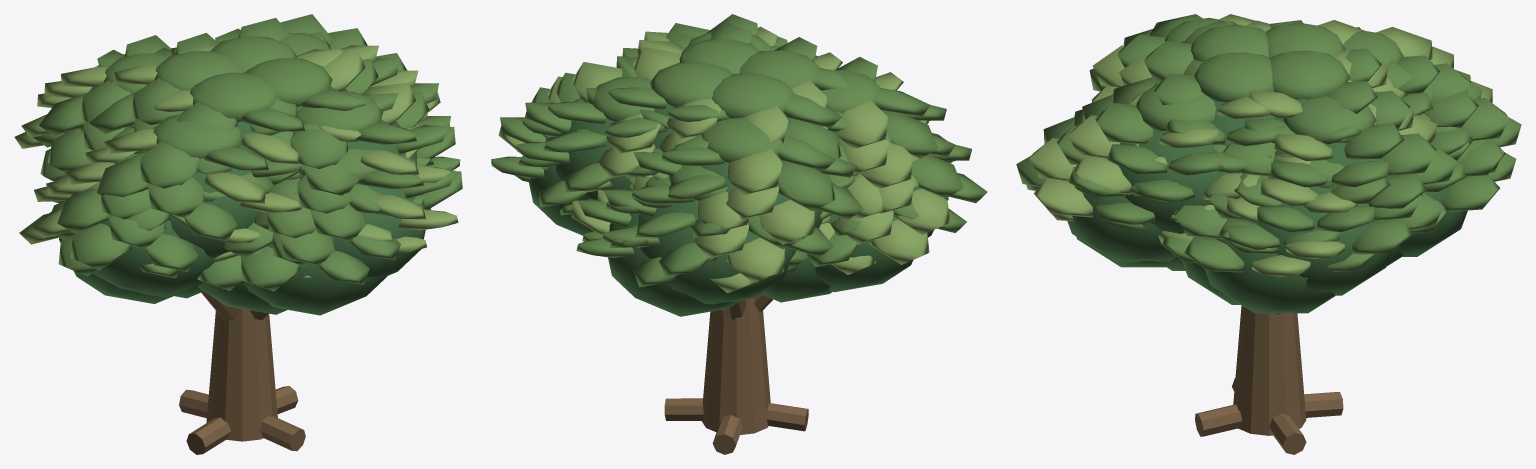
The model's file is round_oak.glb.
The picture shows the model from 3 angles, left to right: view 1: azimuth 30°, elevation 25°; view 2: azimuth 150°, elevation 25°; view 3: azimuth 270°, elevation 25°; orthographic projection. The views are drawn at different scales.
Visible parts, largest first — view 1: Occlude_Canopy_3_Mesh, Occlude_Canopy_2_Mesh, Occlude_Canopy_1_Mesh, Keep_Mesh, Occlude_Canopy_0_Mesh; view 2: Occlude_Canopy_1_Mesh, Occlude_Canopy_2_Mesh, Occlude_Canopy_0_Mesh, Keep_Mesh, Occlude_Canopy_3_Mesh; view 3: Occlude_Canopy_0_Mesh, Occlude_Canopy_3_Mesh, Occlude_Canopy_1_Mesh, Keep_Mesh, Occlude_Canopy_2_Mesh.
Boxes of the visible parts, x1,y1,x2,y2 form: Occlude_Canopy_3_Mesh: (197,49,462,315); Occlude_Canopy_2_Mesh: (19,72,319,303); Occlude_Canopy_1_Mesh: (14,33,288,181); Keep_Mesh: (179,291,305,454); Occlude_Canopy_0_Mesh: (170,14,460,170); Occlude_Canopy_1_Mesh: (571,73,863,316); Occlude_Canopy_2_Mesh: (739,37,987,302); Occlude_Canopy_0_Mesh: (491,47,732,235); Keep_Mesh: (664,294,808,454); Occlude_Canopy_3_Mesh: (616,14,817,76); Occlude_Canopy_0_Mesh: (1158,49,1456,313); Occlude_Canopy_3_Mesh: (1016,52,1285,270); Occlude_Canopy_1_Mesh: (1265,20,1521,266); Keep_Mesh: (1195,305,1343,454); Occlude_Canopy_2_Mesh: (1089,14,1270,102).
Bounding box in the file's own units: 4.8 × 3.99 × 4.8.
